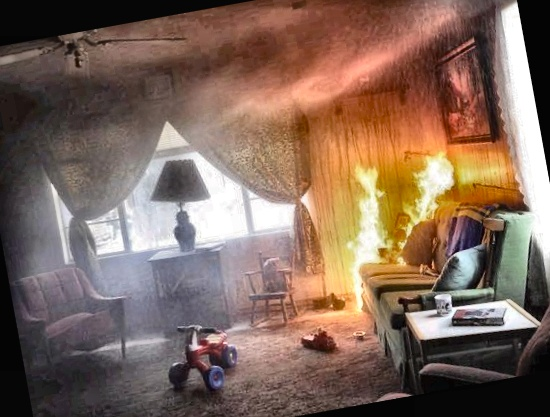fire: (311, 138, 479, 298)
